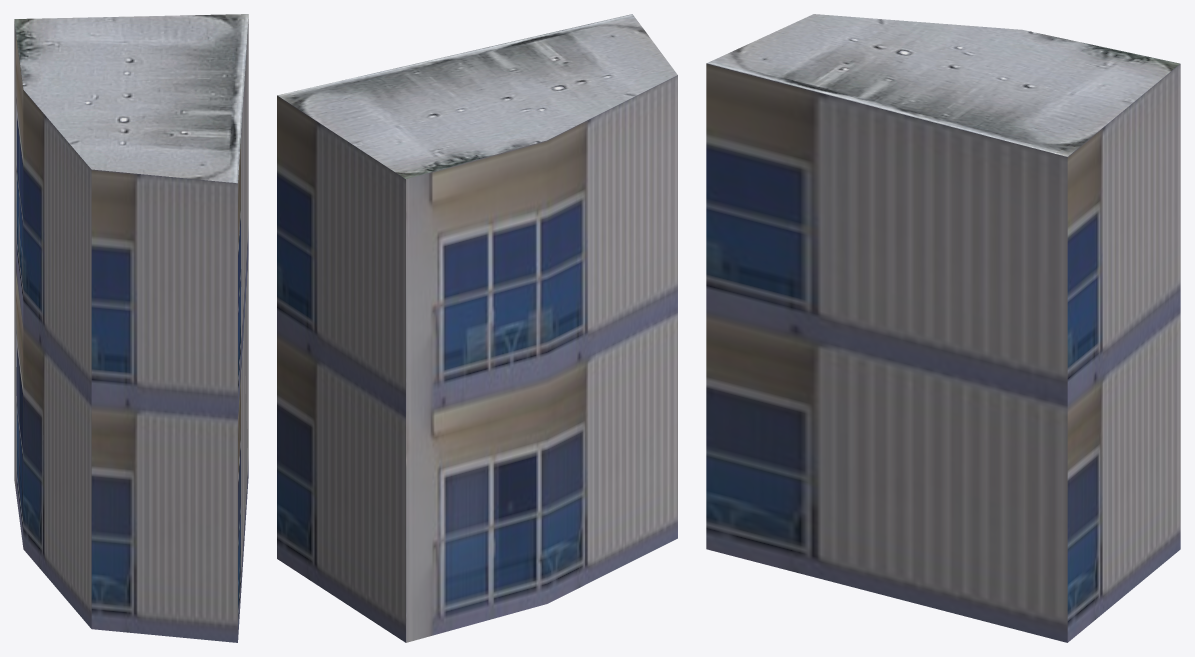
Rendered from RelTex__9.fbx.
The picture shows the model from 3 angles, left to right: view 1: azimuth 30°, elevation 25°; view 2: azimuth 150°, elevation 25°; view 3: azimuth 270°, elevation 25°; orthographic projection. The views are drawn at different scales.
Parts seen in each view (by area): view 1: CityEngineMaterial_17_m, CityEngineMaterial_16_m; view 2: CityEngineMaterial_17_m, CityEngineMaterial_16_m; view 3: CityEngineMaterial_17_m, CityEngineMaterial_16_m.
Boxes of the visible parts, x1,y1,x2,y2 form: CityEngineMaterial_17_m: (14,19,248,642); CityEngineMaterial_16_m: (14,14,248,183); CityEngineMaterial_17_m: (277,75,677,642); CityEngineMaterial_16_m: (277,14,677,179); CityEngineMaterial_17_m: (706,63,1180,642); CityEngineMaterial_16_m: (707,14,1179,156).
Bounding box in the file's own units: 3.79 × 6 × 5.3.
Materials: 2 (2 with a texture image).
